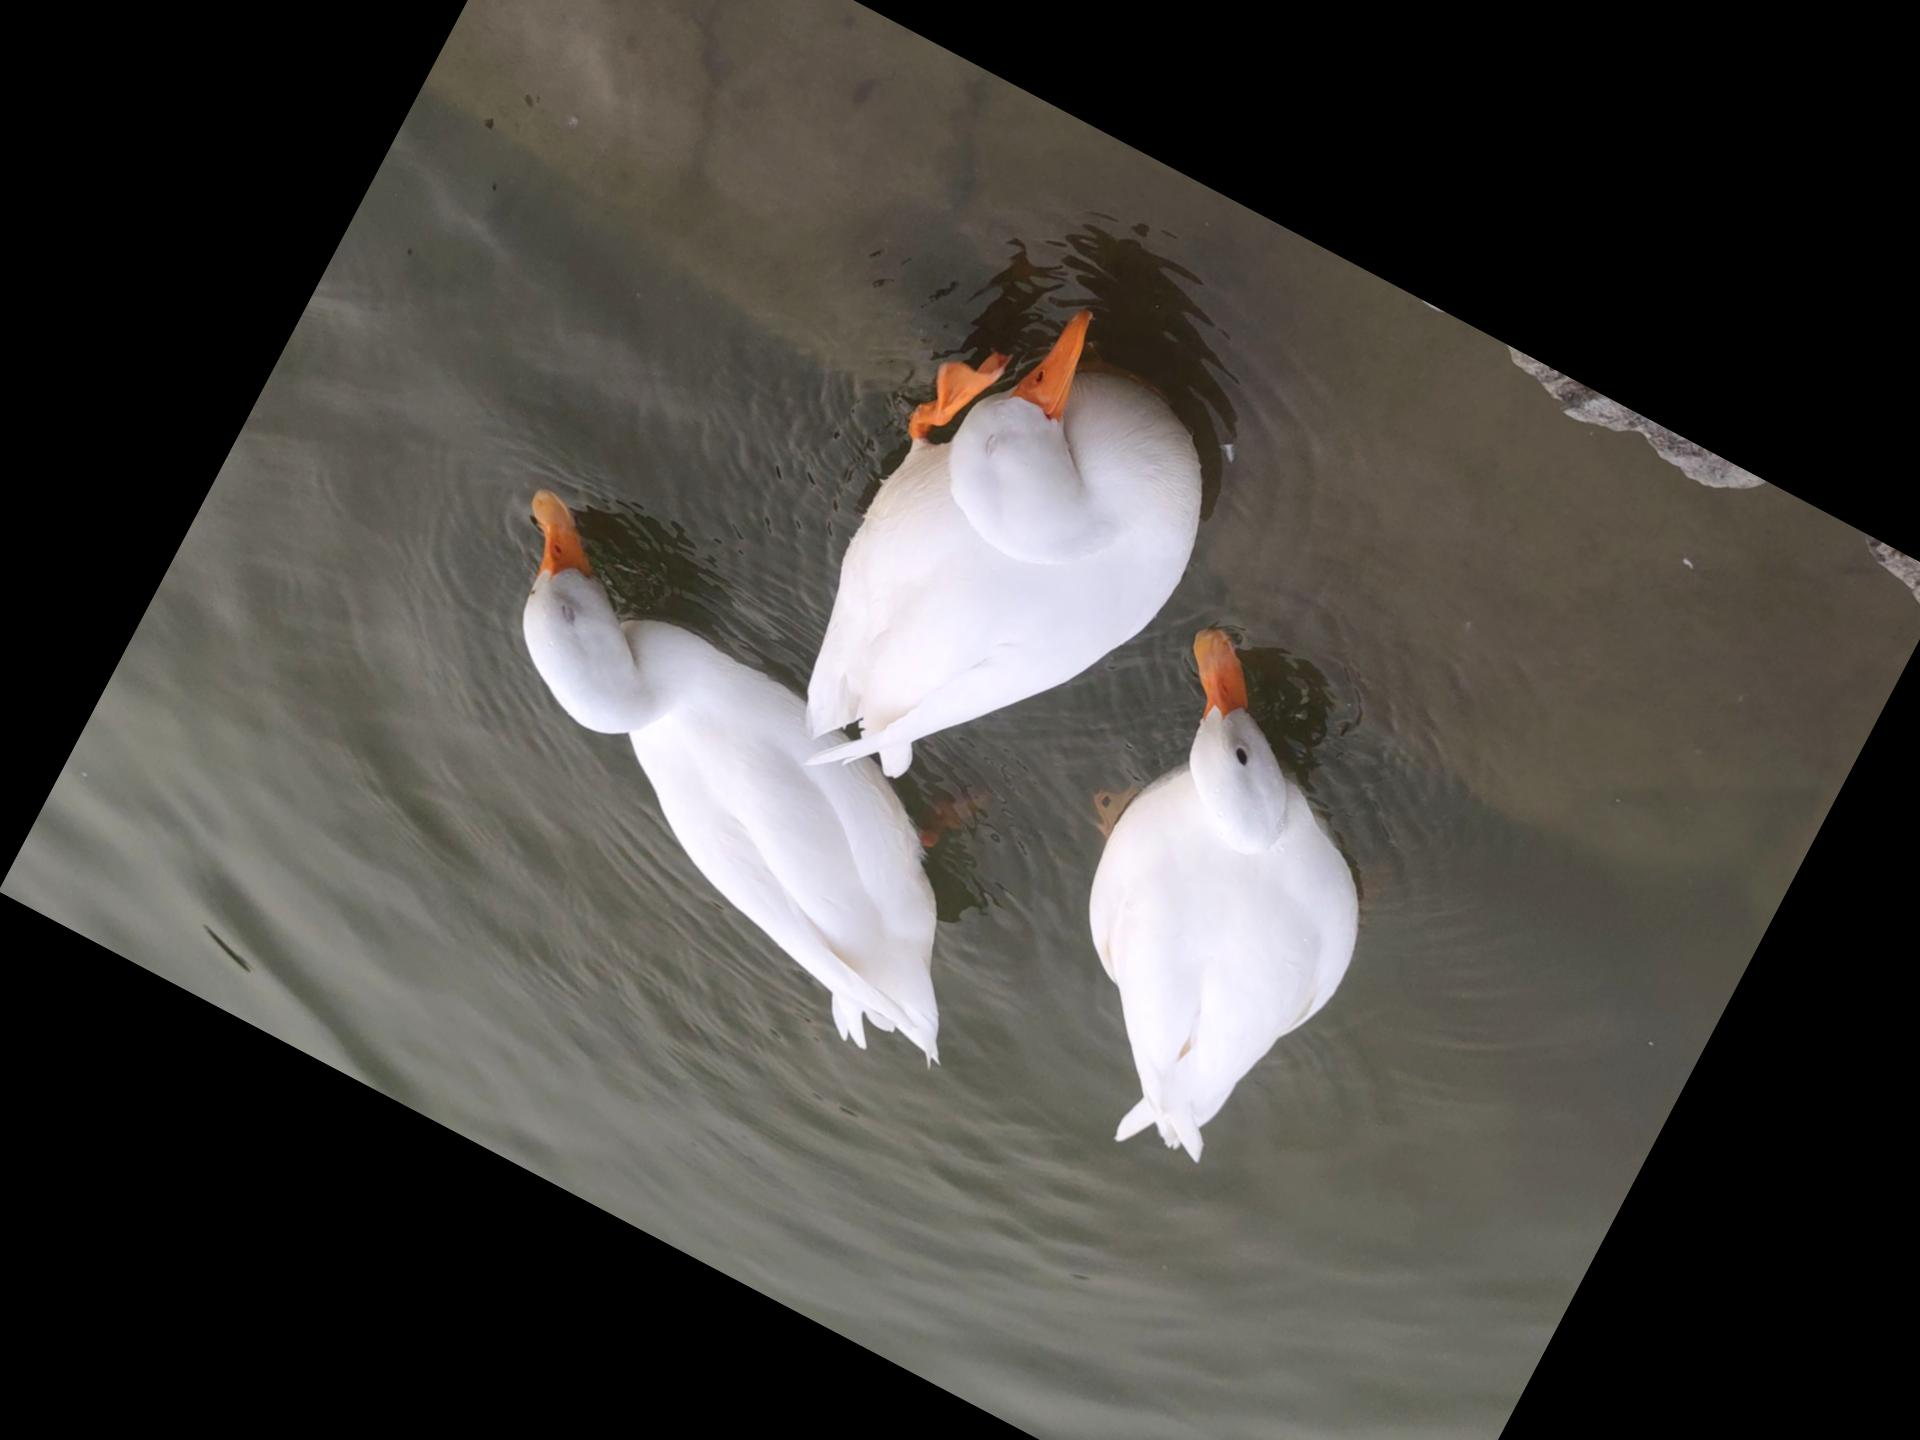duck: (355, 464, 1116, 1118), (711, 250, 1290, 908), (955, 604, 1473, 1210)
